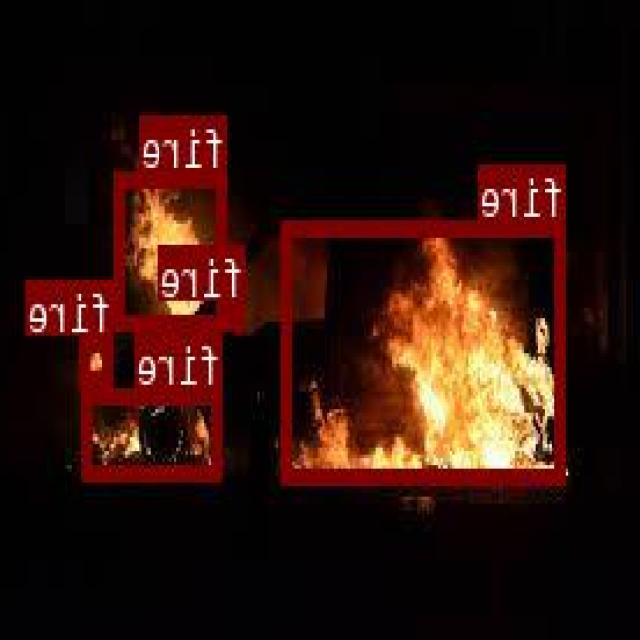fire: (285, 220, 567, 480), (117, 168, 228, 326), (85, 386, 225, 477), (81, 336, 115, 384), (227, 298, 247, 328)
